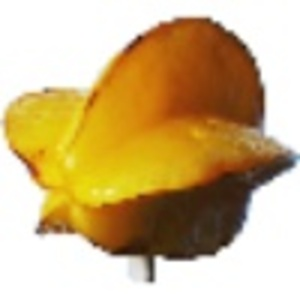carambola: (1, 14, 300, 280)
